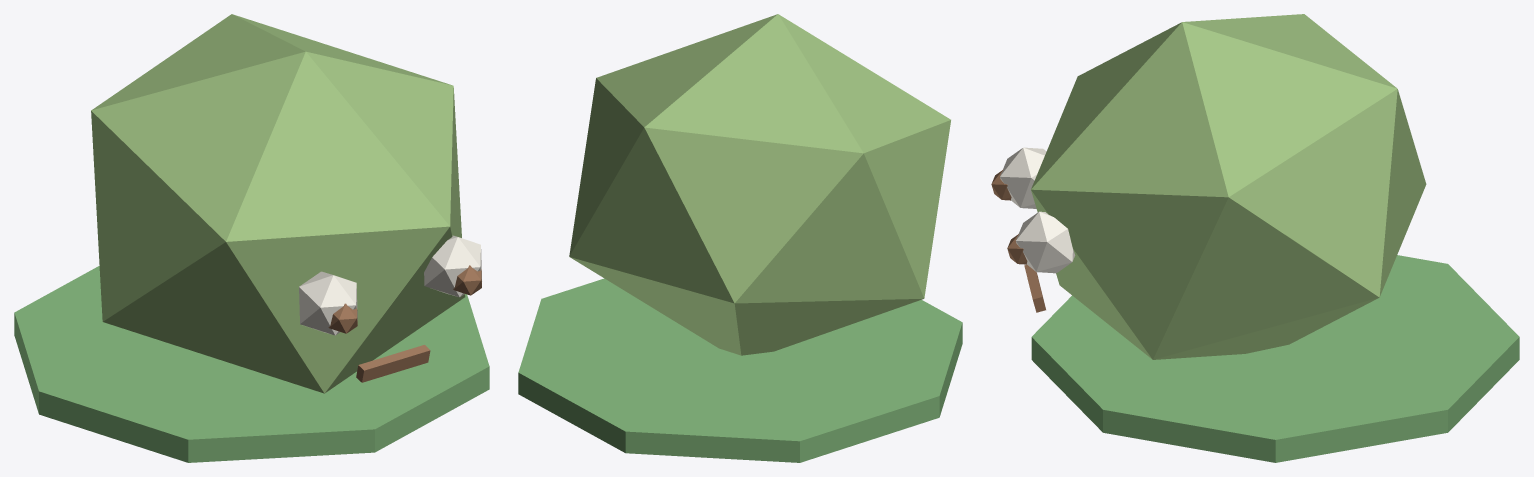
Rendered from npcpose_slime_walk_08.glb.
3 views of the same model, side by side, from view 1: azimuth 30°, elevation 25°; view 2: azimuth 150°, elevation 25°; view 3: azimuth 270°, elevation 25° (orthographic). The views are drawn at different scales.
Parts seen in each view (by area): view 1: npcpose; view 2: npcpose; view 3: npcpose.
Boxes of the visible parts, x1=… form: npcpose: x1=14, y1=14, x2=489, y2=462; npcpose: x1=518, y1=14, x2=962, y2=462; npcpose: x1=991, y1=14, x2=1519, y2=462.
Bounding box in the file's own units: 0.96 × 0.7404 × 1.04.
